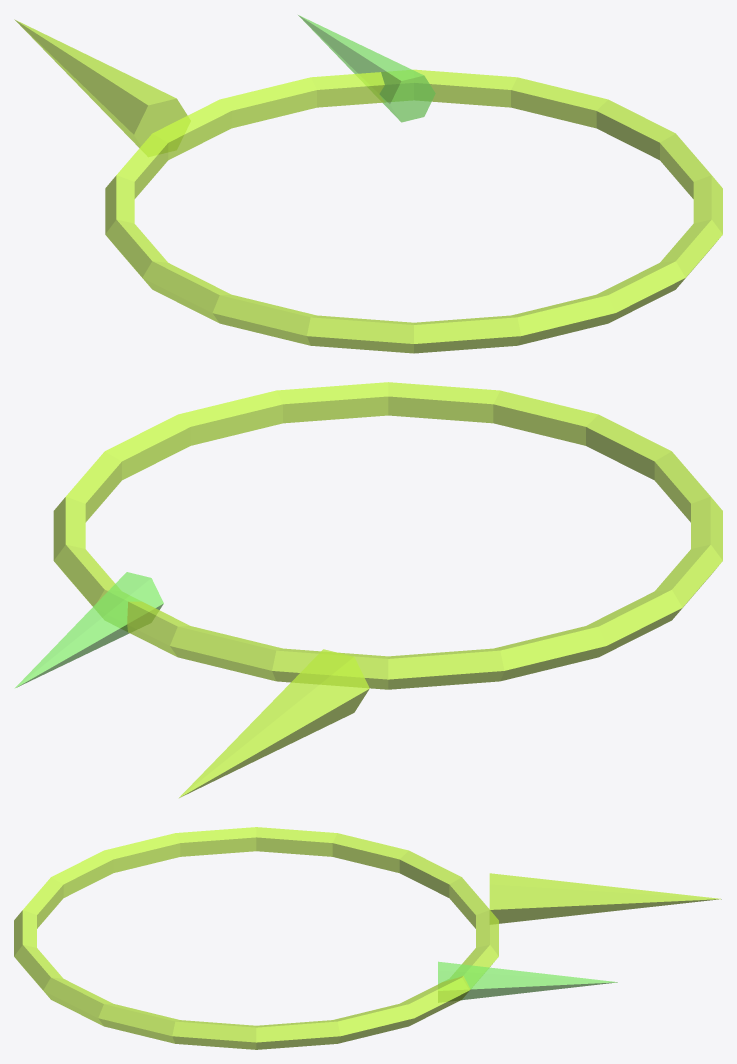
Rendered from vfx_corrosion_status_drip.glb.
The picture shows the model from 3 angles, top to bottom: view 1: azimuth 30°, elevation 25°; view 2: azimuth 150°, elevation 25°; view 3: azimuth 270°, elevation 25°; orthographic projection. The views are drawn at different scales.
Parts seen in each view (by area): view 1: ring, drip_a, drip_b; view 2: ring, drip_a, drip_b; view 3: ring, drip_a, drip_b.
Boxes of the visible parts, bbox=[...] form: ring: bbox=[105, 69, 722, 353]; drip_a: bbox=[14, 19, 190, 156]; drip_b: bbox=[298, 15, 435, 122]; ring: bbox=[53, 382, 722, 689]; drip_a: bbox=[178, 649, 369, 798]; drip_b: bbox=[14, 572, 163, 688]; ring: bbox=[14, 827, 498, 1049]; drip_a: bbox=[489, 873, 721, 923]; drip_b: bbox=[438, 961, 617, 1002].
Bounding box in the file's own units: 0.95 × 0.0866 × 1.37.
